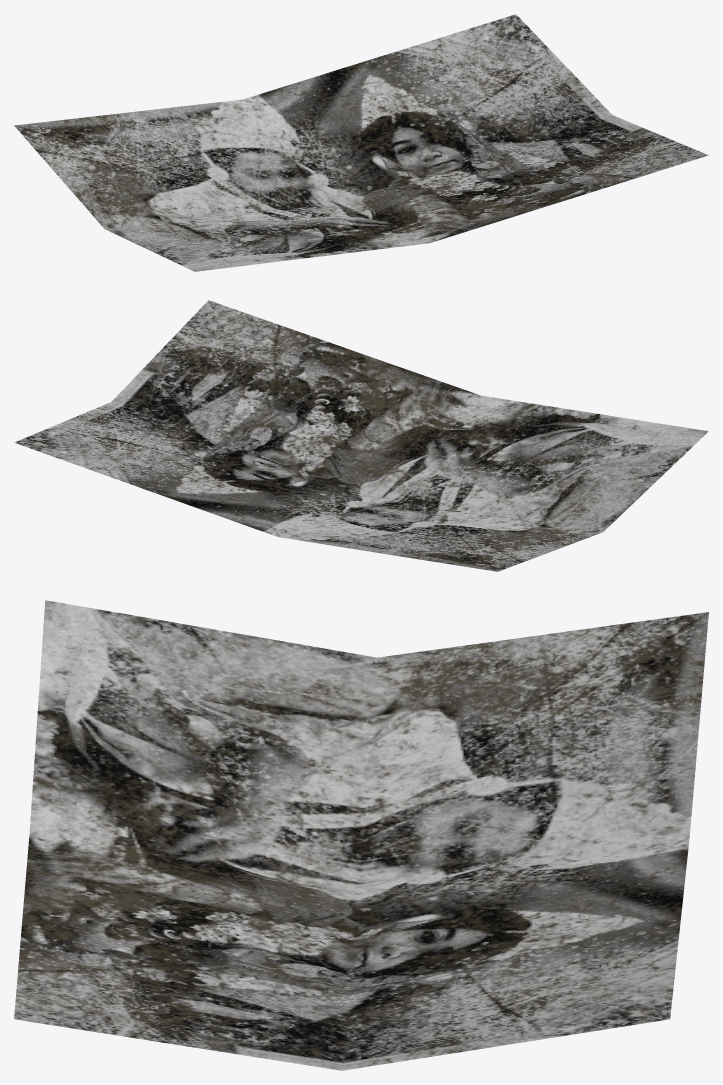
File: WeddingPic.FBX
3 renders of one model, top to bottom at view 1: azimuth 30°, elevation 25°; view 2: azimuth 150°, elevation 25°; view 3: azimuth 270°, elevation 25°, orthographic. The views are drawn at different scales.
Parts seen in each view (by area): view 1: WeddingPic; view 2: WeddingPic; view 3: WeddingPic.
Boxes of the visible parts, left/top/right/bottom form: WeddingPic: left=14, top=14, right=708, bottom=271; WeddingPic: left=14, top=300, right=708, bottom=571; WeddingPic: left=14, top=600, right=708, bottom=1070.
Size of the model in its own units: 20.63 by 2.13 by 14.46.
Materials: 1 (1 with a texture image).
